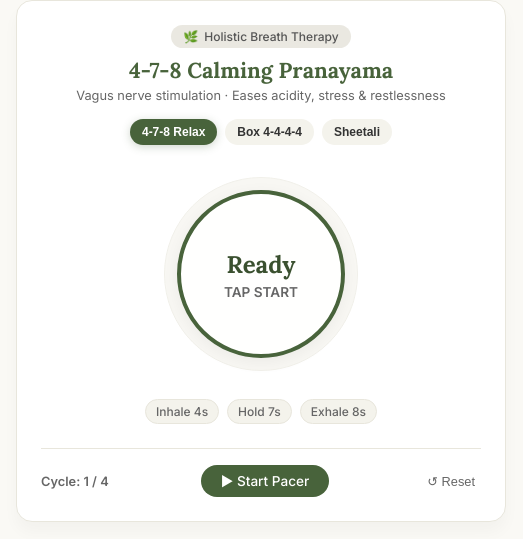
Test: BreathingPacer Component › switches pattern to Box Breathing
Click the button "Box 4-4-4-4".
click(270, 132)  # box [225,119,314,145]
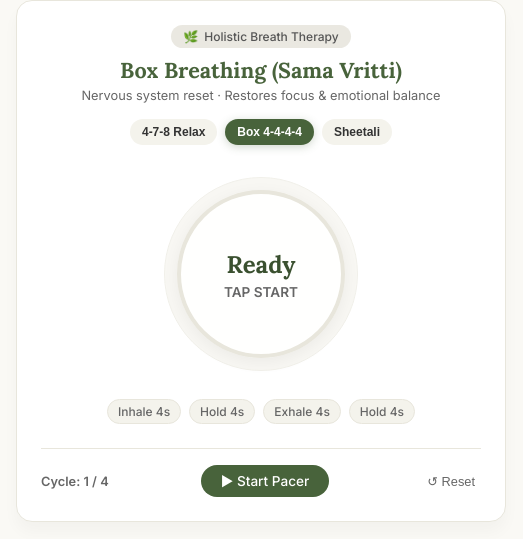
Result: the heading "Box Breathing (Sama Vritti)" is shown at [120,56,402,84]
